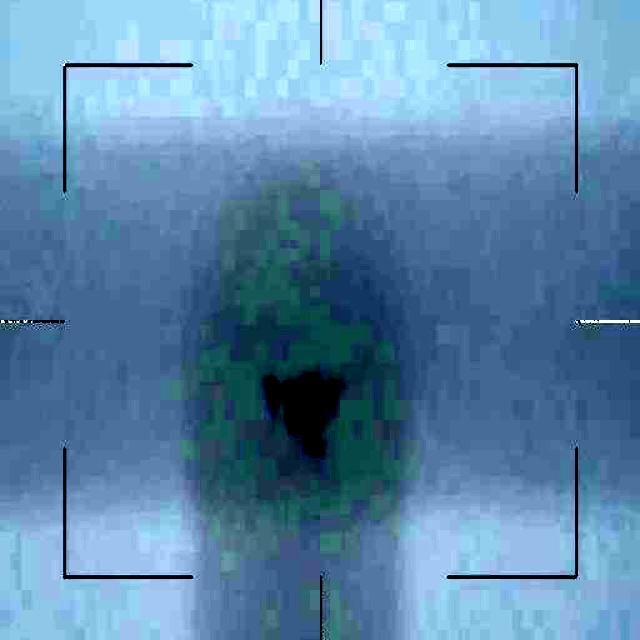bird: (264, 369, 342, 461)
